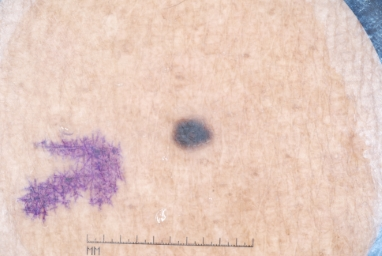seborrheic keratosis: (149, 105, 233, 170)
